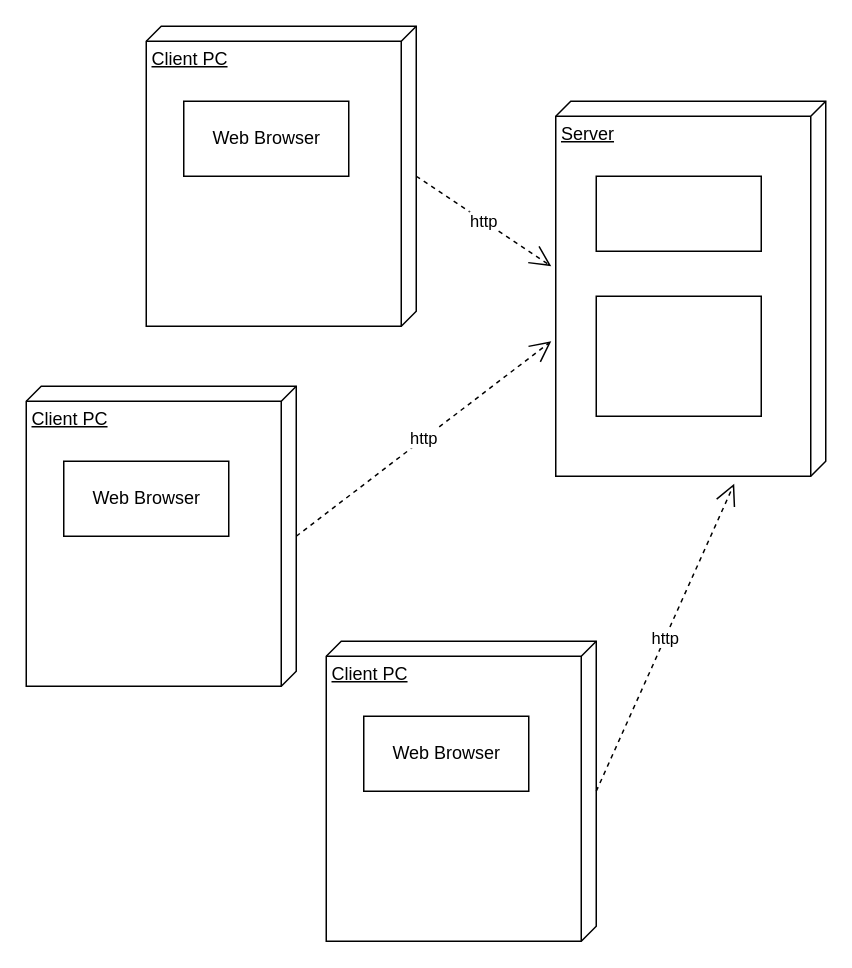
Image size: 852x968. Some labels were removed from this diagram. Each missing label, with the box of its shape:
Game YAML Files Sqlite3 Database: (595, 295, 761, 416)
Web Server: (595, 175, 761, 251)
